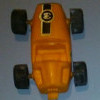naranja: (13, 3, 87, 98)
